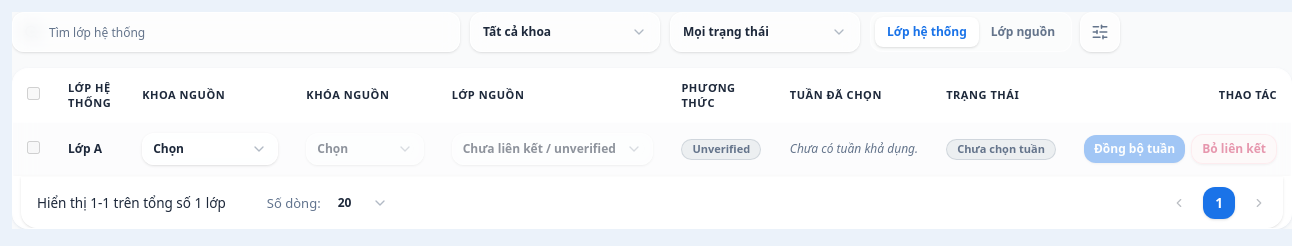
TimetableSyncPanel › keeps classes searchable while the source catalog is pending
Check: the text "Lớp A" is shown, box [54, 123, 128, 176]
Type "missing" into the field labelled "Tìm lớp".
click(236, 32); type("missing")  # box [12, 12, 460, 52]
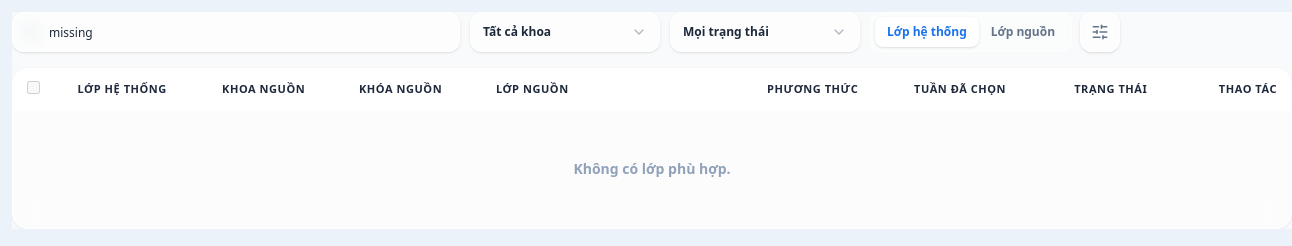
Check: the text "Lớp A" is gone
Replace the text in the field named "Tìm lớp" with "Lớp A" at (236,32), box [12, 12, 460, 52]
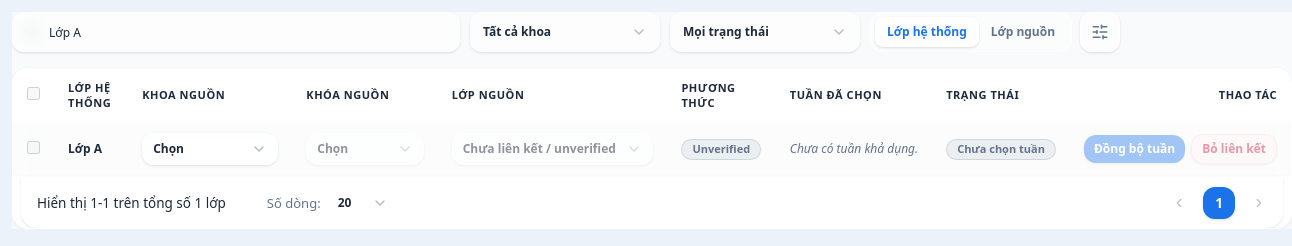
Check: the text "Lớp A" is shown, box [54, 123, 128, 176]
